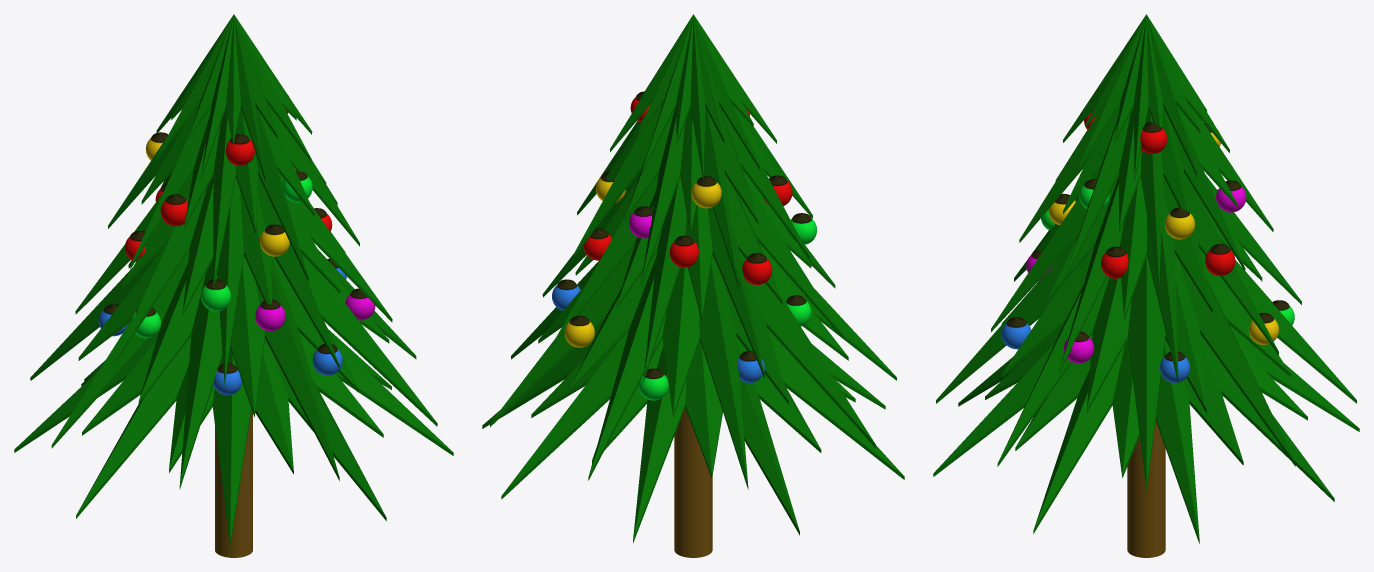
The model's file is xmastree_decorated.fbx.
3 views of the same model, side by side, from view 1: azimuth 30°, elevation 25°; view 2: azimuth 150°, elevation 25°; view 3: azimuth 270°, elevation 25° (orthographic).
Visible parts, largest first — view 1: Cylinder, Sphere.013, Sphere.011, Sphere.018, Sphere.022, Sphere.008, Sphere.024, Sphere.017, Sphere.020; view 2: Cylinder, Sphere.025, Sphere.010, Sphere.026, Sphere.014, Sphere.027, Sphere.015, Sphere.006, Sphere.019, Sphere.016, Sphere.013, Sphere.021; view 3: Cylinder, Sphere.006, Sphere.009, Sphere.023, Sphere.007, Sphere.017, Sphere.016, Sphere.019, Sphere.020, Sphere.025.
Boxes of the visible parts, x1,y1,x2,y2 form: Cylinder: (14, 14, 453, 557); Sphere.013: (201, 279, 231, 311); Sphere.011: (260, 224, 289, 256); Sphere.018: (255, 299, 285, 331); Sphere.022: (226, 134, 254, 165); Sphere.008: (160, 194, 187, 226); Sphere.024: (213, 363, 242, 395); Sphere.017: (312, 344, 342, 375); Sphere.020: (345, 288, 375, 320); Cylinder: (482, 14, 904, 557); Sphere.025: (564, 315, 594, 347); Sphere.010: (691, 176, 721, 208); Sphere.026: (742, 253, 772, 284); Sphere.014: (638, 368, 668, 400); Sphere.027: (669, 235, 698, 267); Sphere.015: (737, 351, 764, 382); Sphere.006: (583, 228, 611, 260); Sphere.019: (629, 206, 652, 238); Sphere.016: (552, 279, 580, 310); Sphere.013: (787, 213, 816, 244); Sphere.021: (785, 295, 811, 326); Cylinder: (933, 14, 1359, 557); Sphere.006: (1205, 244, 1235, 275); Sphere.009: (1165, 207, 1195, 239); Sphere.023: (1101, 246, 1128, 278); Sphere.007: (1140, 122, 1167, 154); Sphere.017: (1001, 317, 1030, 349); Sphere.016: (1160, 351, 1190, 382); Sphere.019: (1216, 180, 1246, 212); Sphere.020: (1064, 331, 1094, 363); Sphere.025: (1248, 313, 1278, 344).
Bounding box in the file's own units: 196 × 272 × 196.
